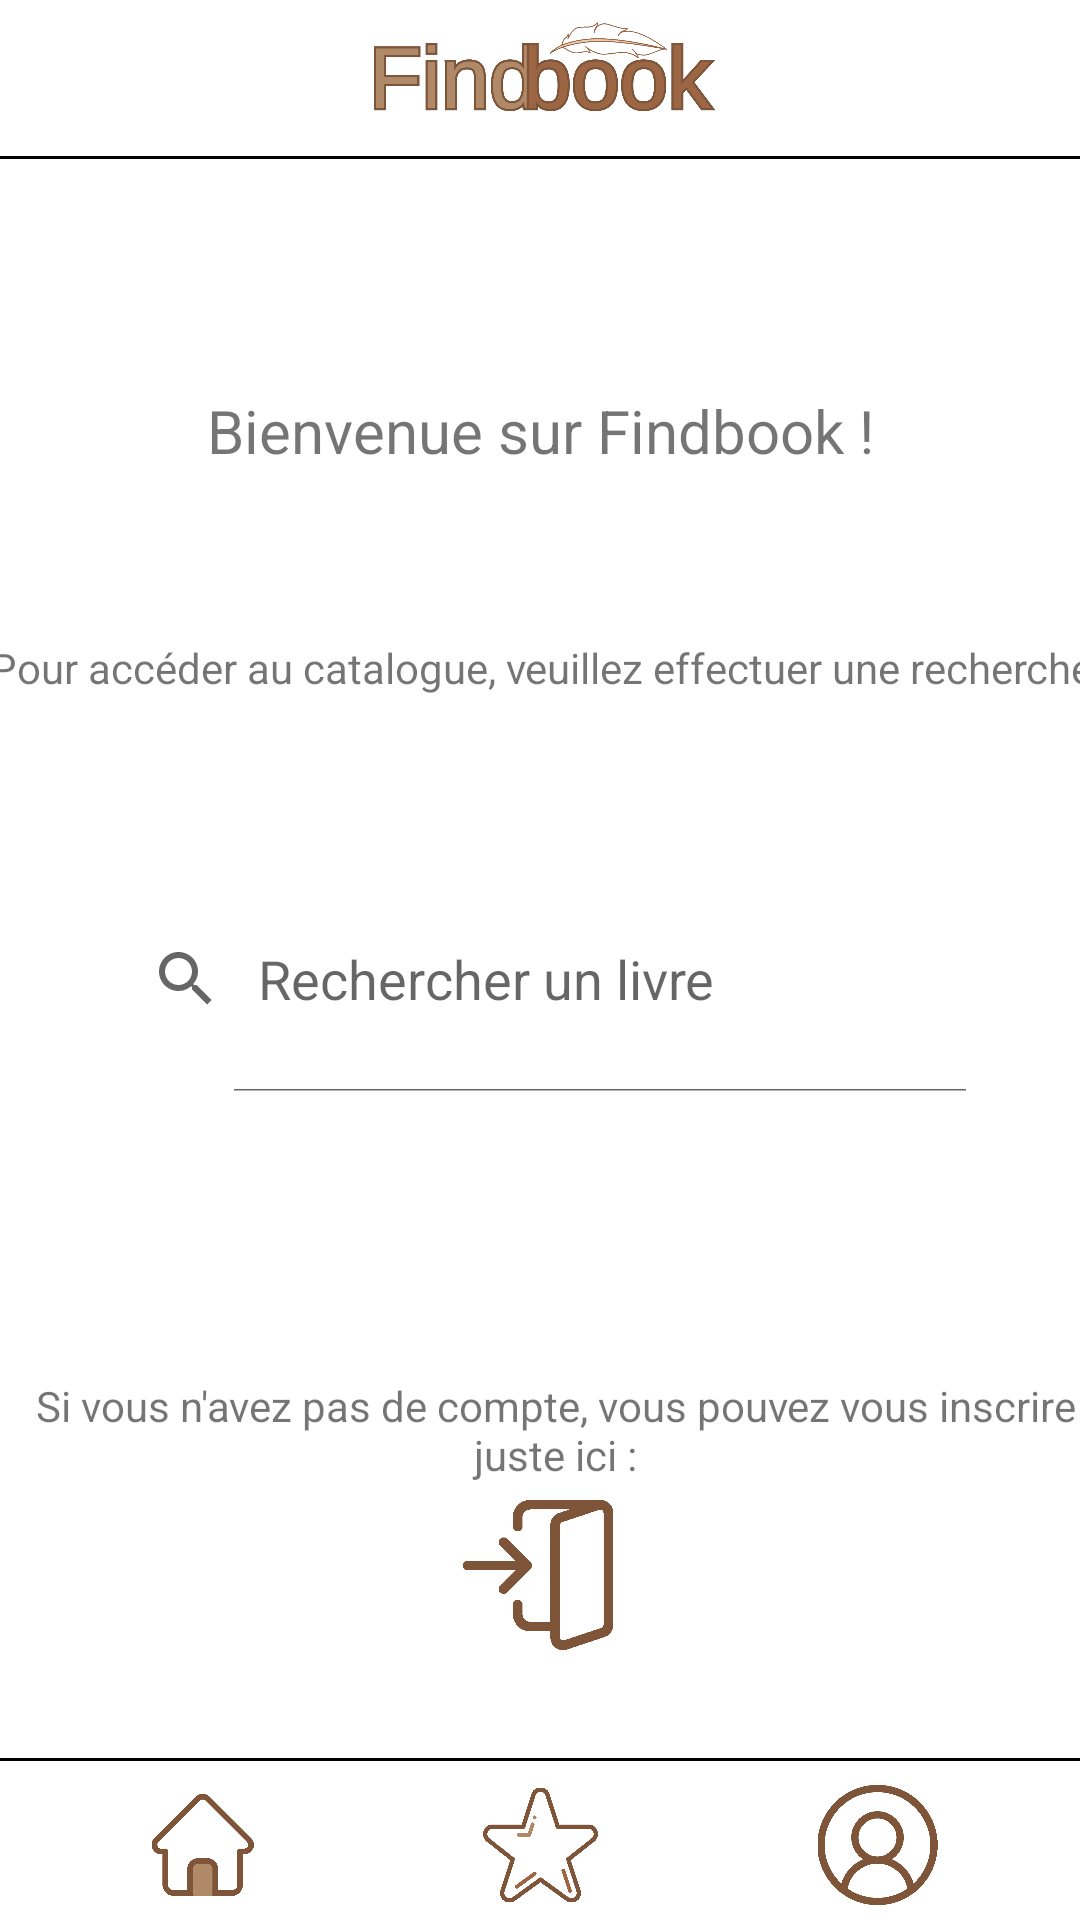

Locate icon controls on the screen. Image size 1080×1920, boxes as (x1, y1, x2, y2).
favoris: (483, 1788, 598, 1902)
home: (152, 1794, 254, 1896)
log in: (463, 1500, 613, 1650)
moncompte: (818, 1785, 938, 1905)
